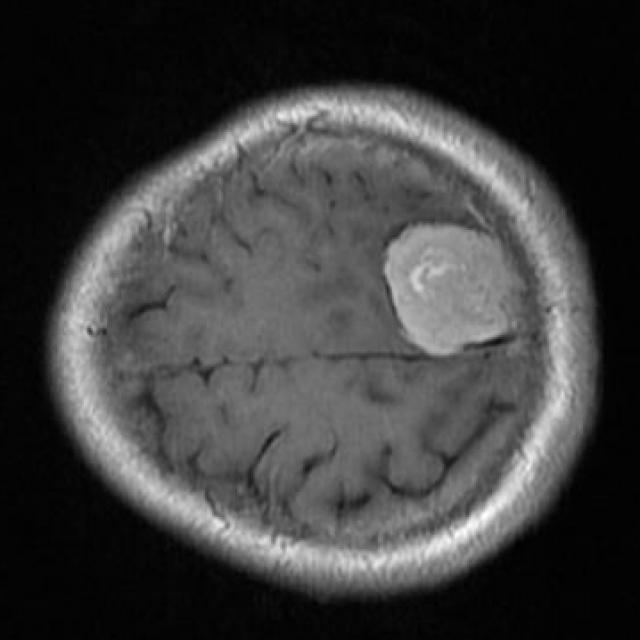meningioma: (383, 223, 512, 357)
